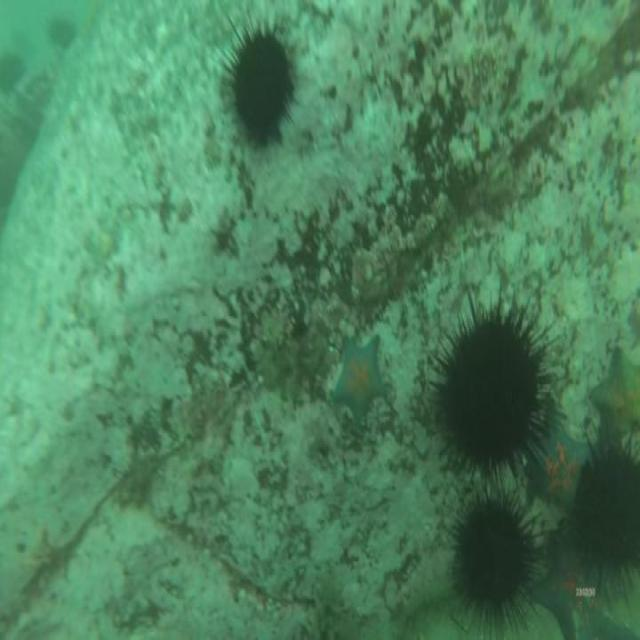echinus: (436, 315, 538, 466), (454, 496, 530, 613), (585, 444, 640, 575), (231, 36, 293, 146)
starfish: (536, 547, 628, 640), (530, 396, 584, 508), (332, 340, 386, 425), (591, 349, 640, 441)
